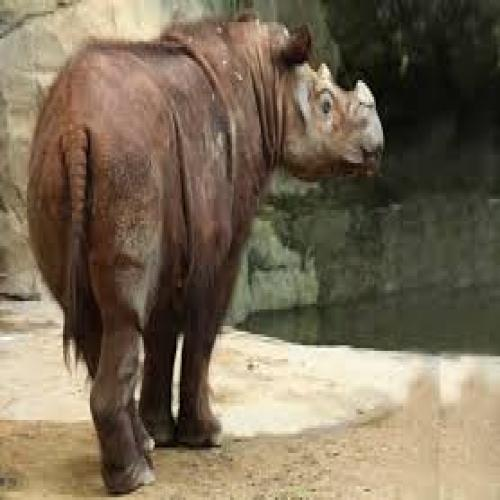rhino-endangered: (36, 21, 384, 471)
